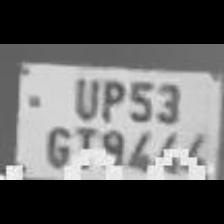3: (152, 76, 181, 124)
4: (152, 125, 182, 172), (124, 124, 154, 170), (181, 124, 207, 168)
5: (124, 76, 154, 122)
9: (96, 124, 124, 168)
G: (40, 122, 72, 170)
P: (96, 76, 124, 122)
T: (73, 124, 97, 170)
U: (68, 72, 98, 120)
